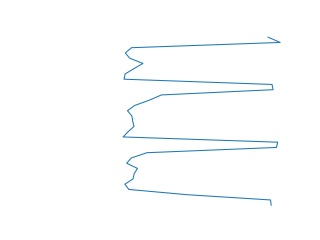majorRiverChannelBar: (119, 37, 286, 206)
